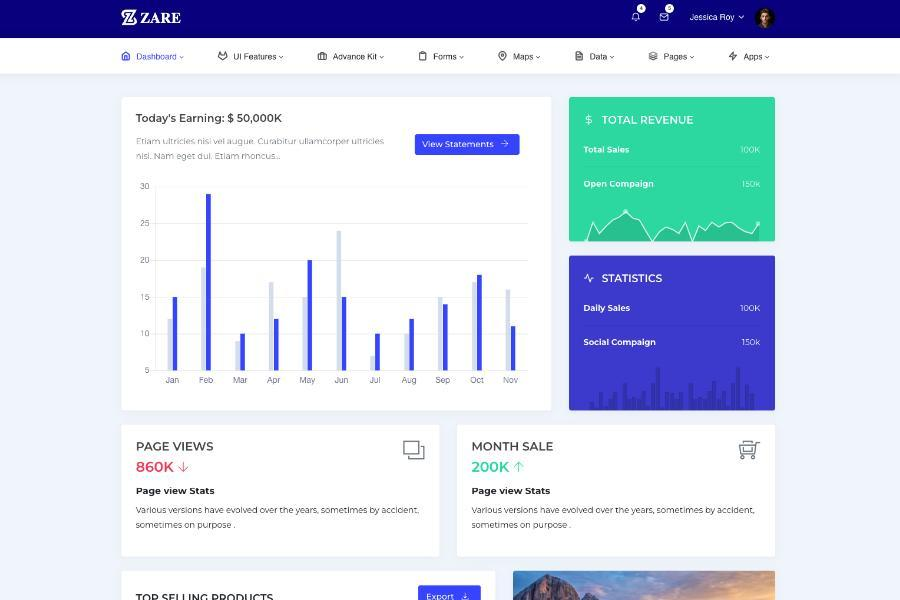button: (416, 135, 521, 156), (417, 585, 484, 600)
icon: (402, 440, 429, 463), (738, 437, 762, 462), (630, 3, 648, 26), (659, 4, 676, 26), (317, 51, 331, 64), (121, 51, 134, 64), (498, 49, 510, 63), (648, 51, 660, 64), (728, 51, 739, 64), (218, 51, 230, 62), (419, 51, 429, 63), (576, 51, 586, 63)
label: (688, 9, 737, 25), (333, 52, 379, 64), (233, 54, 278, 64), (137, 53, 180, 63), (663, 52, 690, 64), (433, 53, 459, 63), (742, 53, 765, 63), (514, 53, 536, 63), (590, 53, 610, 63)
